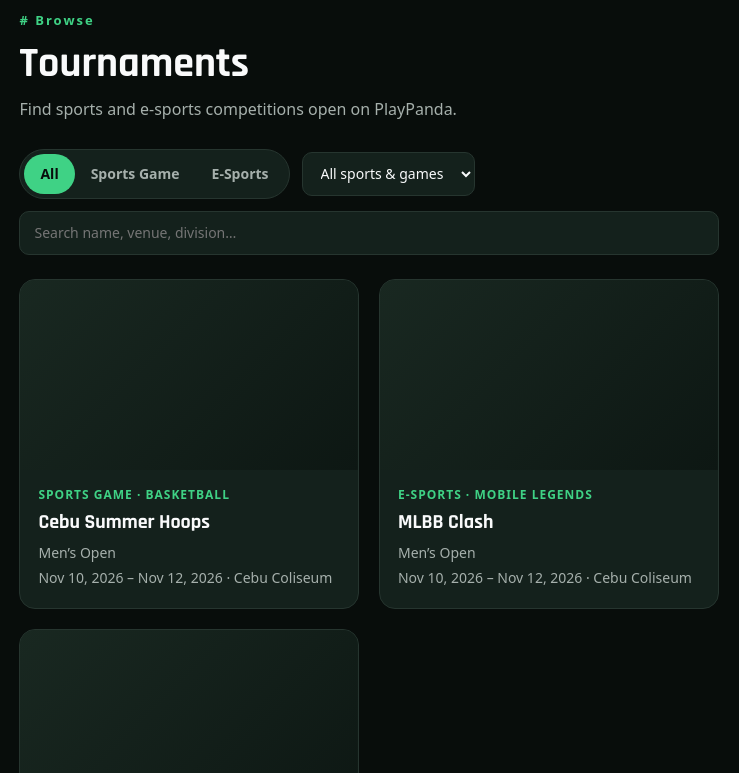
TournamentsPage (public browse) › filters by category, sport and search text
Check: the heading "MLBB Clash" is shown, box [398,509,493,535]
Click the button "E-Sports": (240, 174) [196,154,284,194]
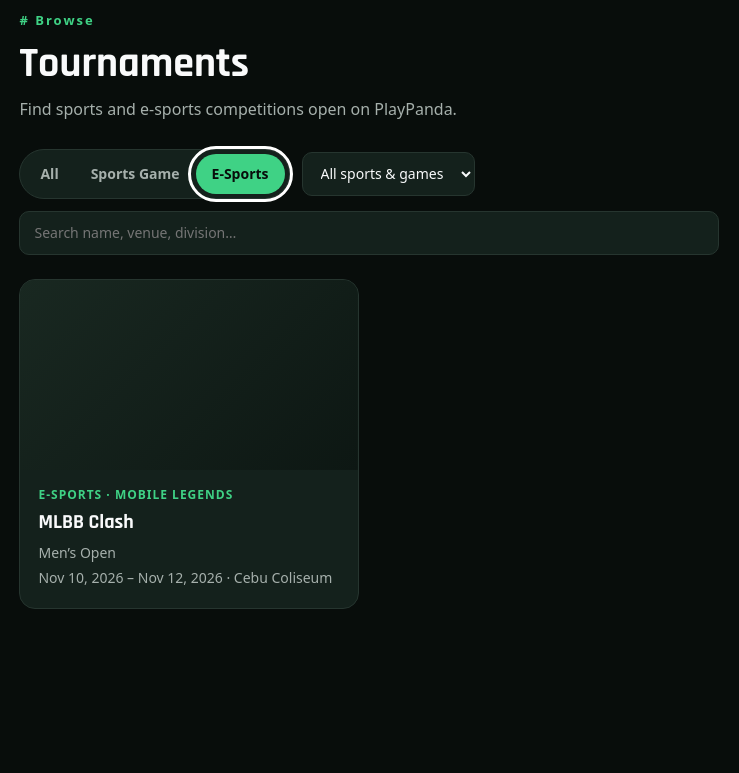
Check: the heading "MLBB Clash" is shown, box [38,509,134,535]
Check: the link "Cebu Summer Hoops" is gone
Click the button "Sports Game": (135, 174) [75,154,196,194]
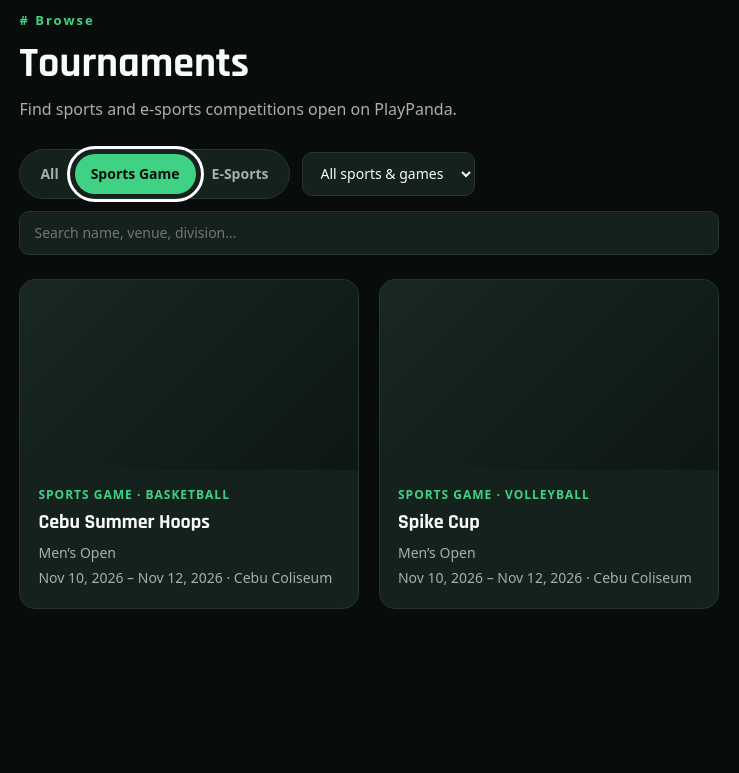
Select "Volleyball" in the dropdown named "filter by sport": (388, 174) [302,152,474,196]
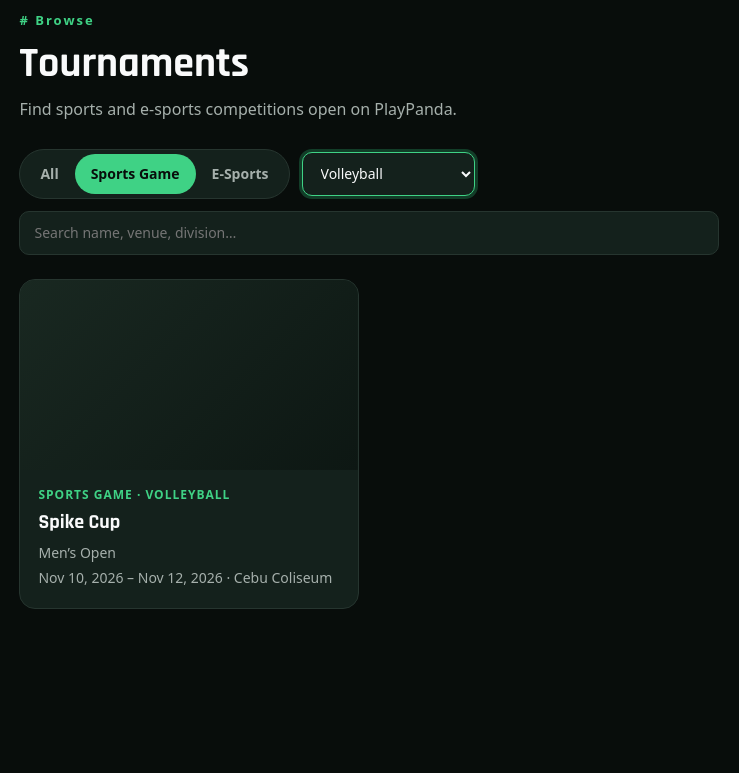
Check: the heading "Spike Cup" is shown, box [38,509,120,535]
Check: the link "Cebu Summer Hoops" is gone
Select "All sports & games" in the dropdown named "filter by sport": (388, 174) [302,152,474,196]
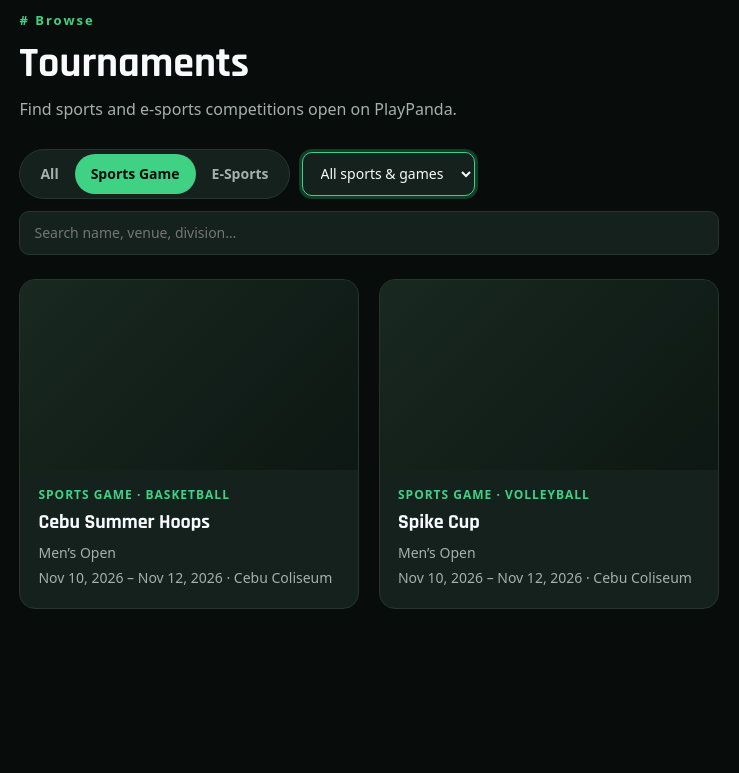
In the search field named "search tournaments": (369, 233) [20,211,719,255], type "hoops"
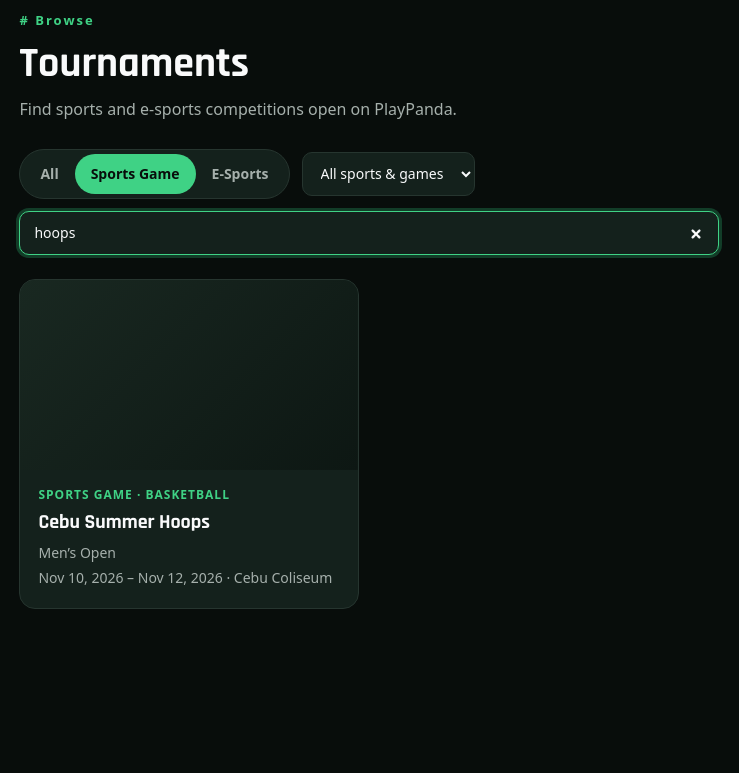
Check: the heading "Cebu Summer Hoops" is shown, box [38,509,210,535]
Check: the link "Spike Cup" is gone
